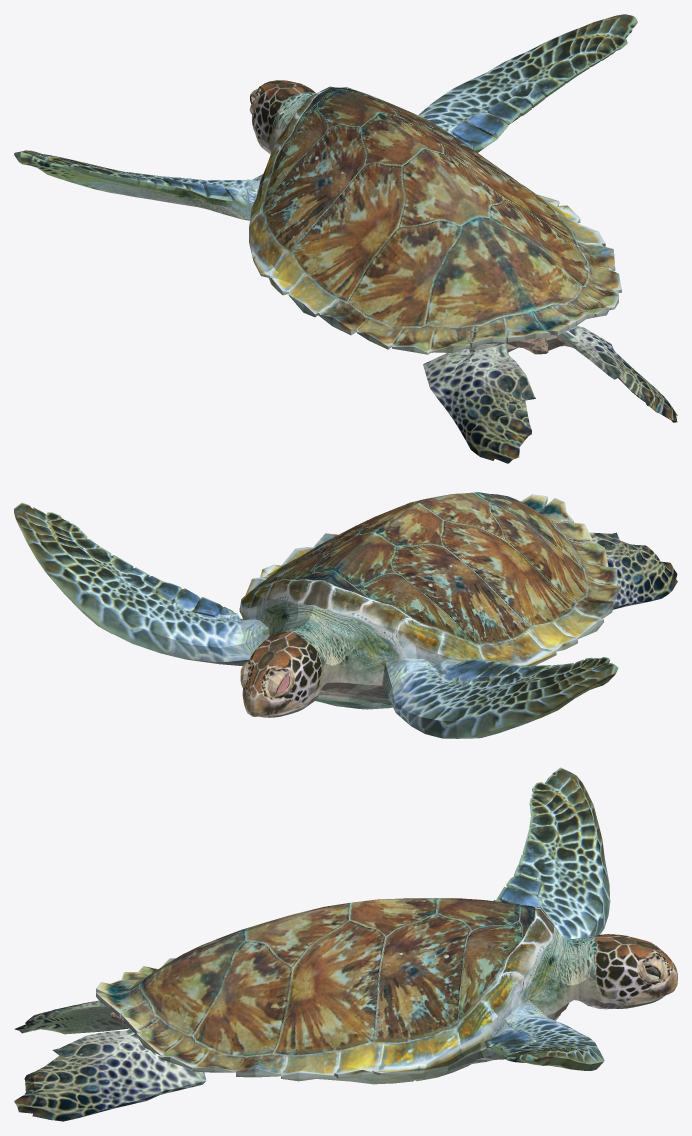
File: frame_6.obj
3 renders of one model, top to bottom at view 1: azimuth 30°, elevation 25°; view 2: azimuth 150°, elevation 25°; view 3: azimuth 270°, elevation 25°, orthographic. The views are drawn at different scales.
Parts seen in each view (by area): view 1: Turtle GEO Turtle; view 2: Turtle GEO Turtle; view 3: Turtle GEO Turtle.
Boxes of the visible parts, box(x1,y1,x2,y2) form: Turtle GEO Turtle: box(14, 14, 677, 463); Turtle GEO Turtle: box(14, 492, 677, 738); Turtle GEO Turtle: box(14, 767, 677, 1121).
Bounding box in the file's own units: 103 × 29.79 × 99.78.
Materials: 1 (1 with a texture image).
